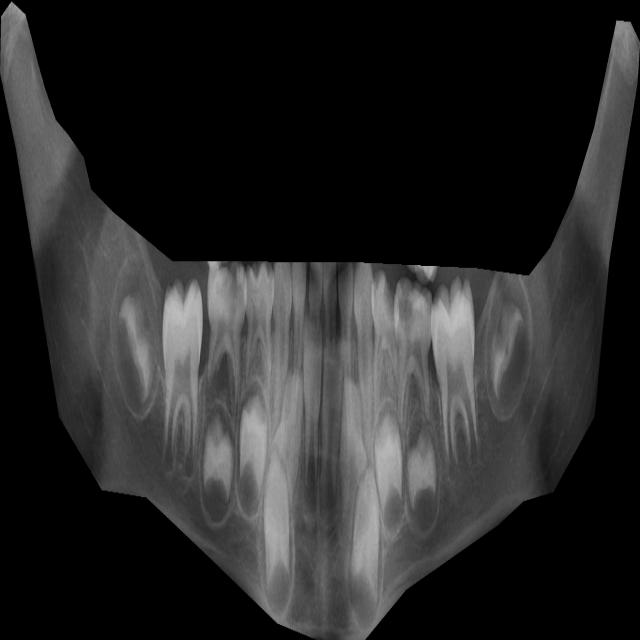mandibula: (0, 1, 640, 640)
